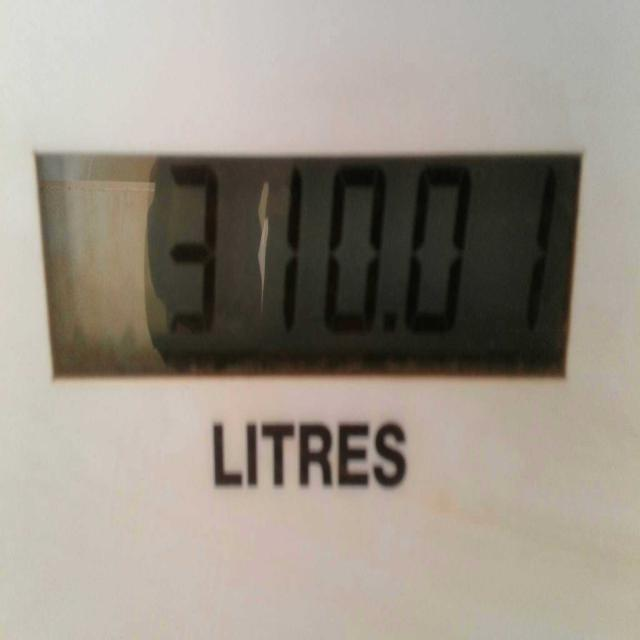.: (375, 298, 409, 363)
0: (312, 148, 398, 341), (394, 161, 473, 346)
1: (496, 159, 563, 354), (260, 154, 316, 346)
3: (153, 150, 236, 352)
